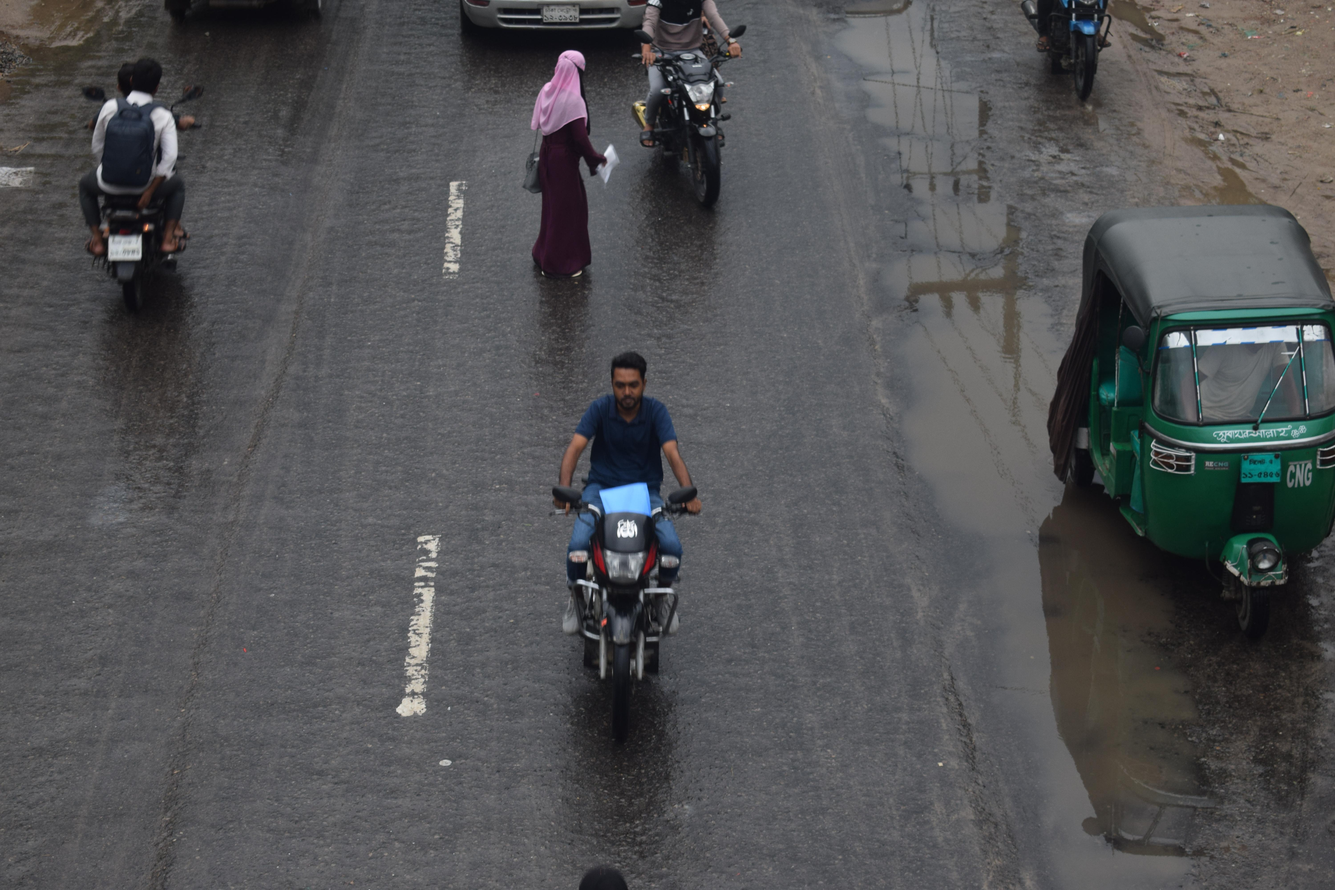Bike: (492, 316, 758, 770), (28, 19, 250, 336), (585, 0, 791, 243)
